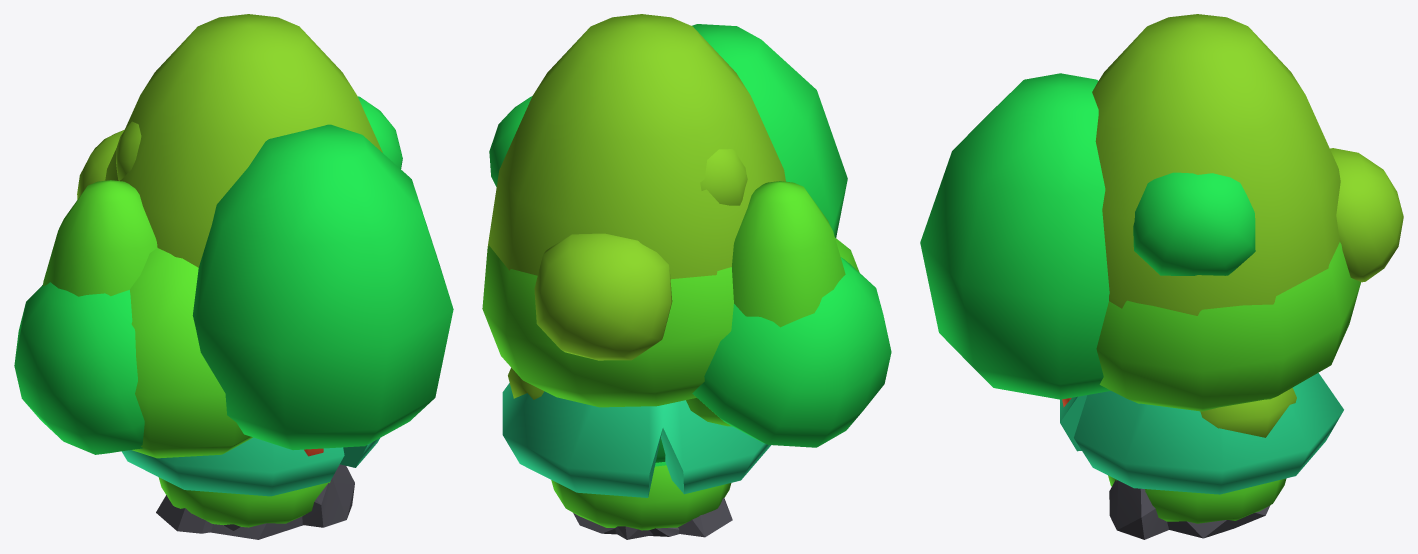
The model's file is Green_objects.fbx.
3 renders of one model, left to right at view 1: azimuth 30°, elevation 25°; view 2: azimuth 150°, elevation 25°; view 3: azimuth 270°, elevation 25°, orthographic.
Parts seen in each view (by area): view 1: Tree_01, Tree_05, Tree_06, Tree_04, Bush_02, Rock_04, Rock_09; view 2: Tree_05, Tree_06, Tree_04, Tree_01, Bush_02, Rock_04, Rock_09; view 3: Tree_01, Tree_05, Tree_06, Tree_04, Bush_02, Rock_04, Rock_09.
Part boxes in pixels (x1,y1,x2,y2): Tree_01: (130,124,453,458); Tree_05: (43,14,382,296); Tree_06: (14,96,402,454); Tree_04: (121,437,379,496); Bush_02: (158,477,330,527); Rock_04: (156,464,354,533); Rock_09: (210,516,303,539); Tree_05: (487,14,845,327); Tree_06: (482,96,891,447); Tree_04: (502,383,771,497); Tree_01: (508,24,859,426); Bush_02: (551,465,731,530); Rock_04: (678,498,732,537); Rock_09: (573,513,679,536); Tree_01: (920,73,1296,437); Tree_05: (1092,14,1340,315); Tree_06: (1096,148,1403,411); Tree_04: (1060,373,1343,494); Bush_02: (1108,475,1286,523); Rock_04: (1109,480,1168,539); Rock_09: (1167,505,1270,538).
Size of the model in its own units: 416 by 526 by 482.
